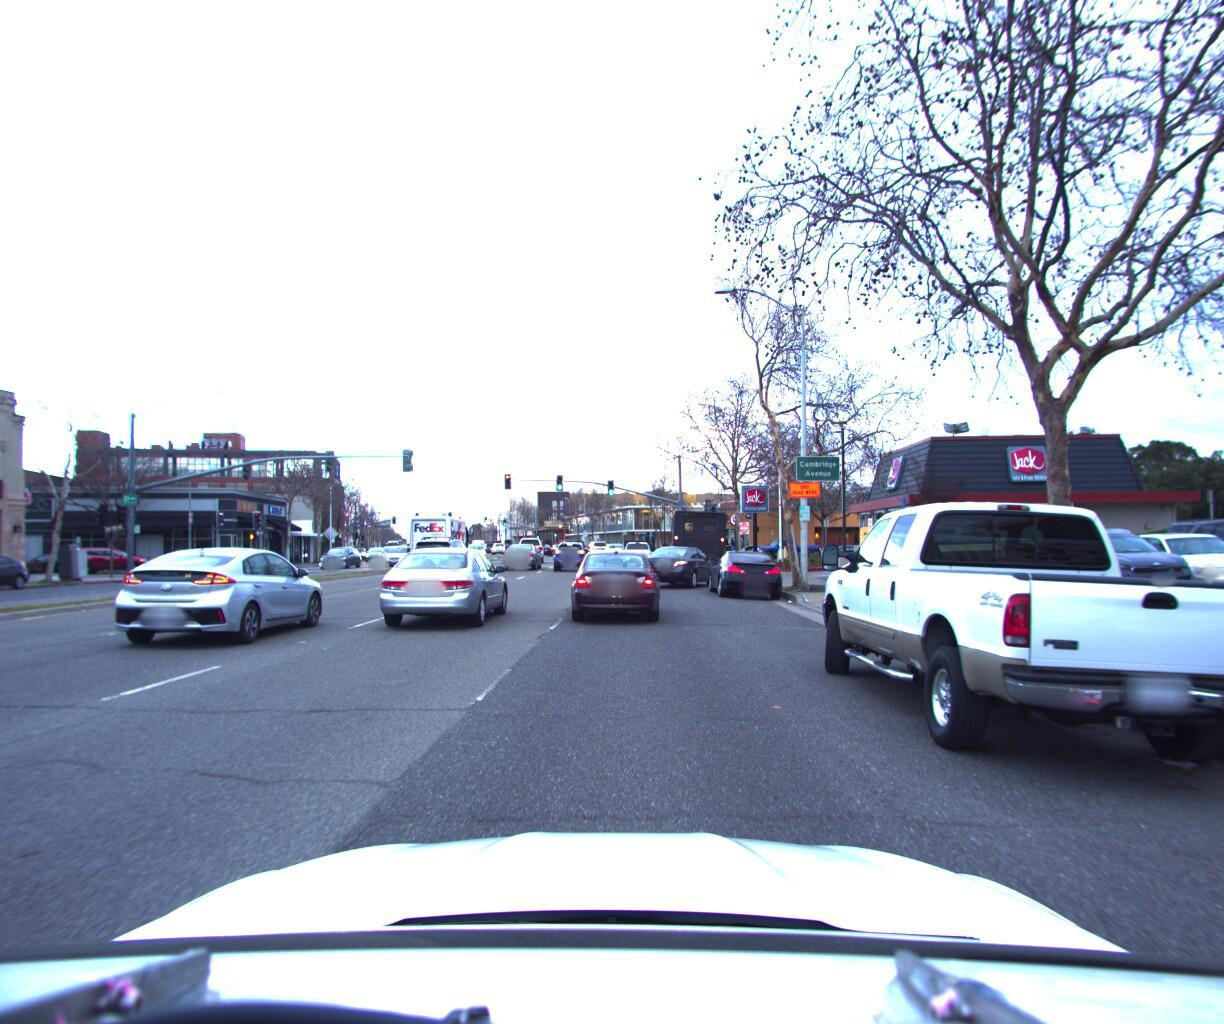car: (802, 468, 1224, 807), (103, 542, 336, 653), (1009, 515, 1210, 601), (377, 543, 514, 631), (1080, 521, 1224, 598), (560, 540, 662, 624), (1158, 502, 1224, 591), (702, 541, 784, 599), (405, 535, 478, 586), (638, 539, 720, 585), (67, 539, 161, 573), (744, 529, 820, 555), (0, 550, 37, 598), (500, 539, 541, 569), (548, 537, 589, 566), (620, 533, 653, 566), (377, 541, 414, 563), (599, 534, 627, 555), (519, 533, 545, 556), (461, 536, 487, 555), (585, 535, 610, 551)
truck: (665, 502, 731, 570), (402, 508, 475, 567)
